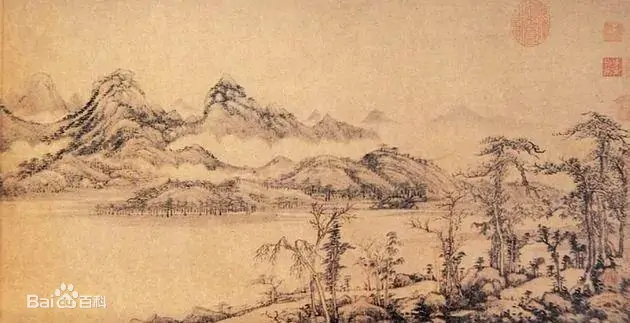hill: (3, 55, 460, 218)
pine: (263, 206, 410, 321), (542, 112, 629, 295), (468, 132, 542, 289), (417, 193, 476, 319)
rock: (303, 295, 457, 323), (459, 261, 529, 305)
